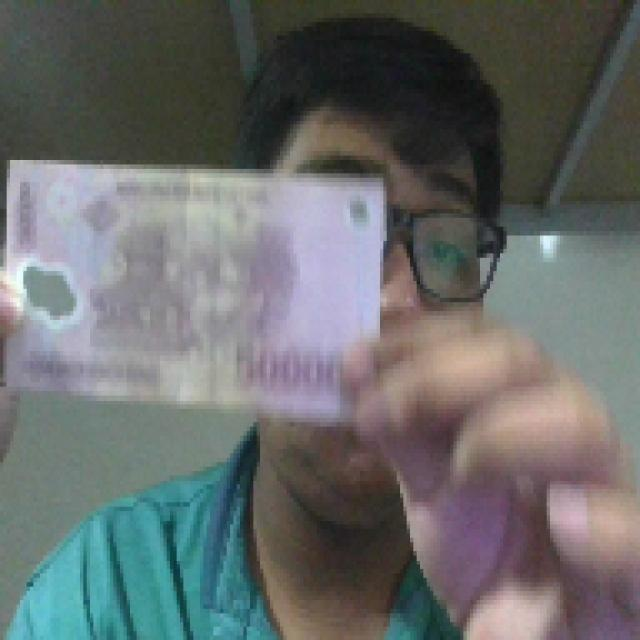50 000 VND: (0, 151, 390, 427)
